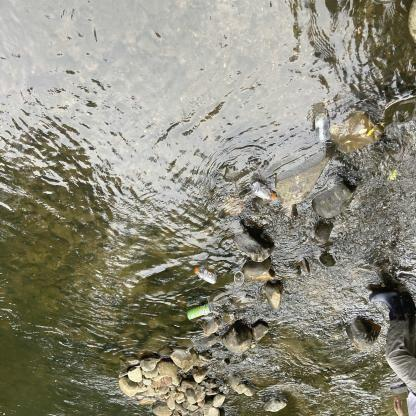Metal: (184, 301, 212, 322)
Plastic: (312, 110, 332, 145), (250, 178, 278, 202), (194, 262, 218, 286)
